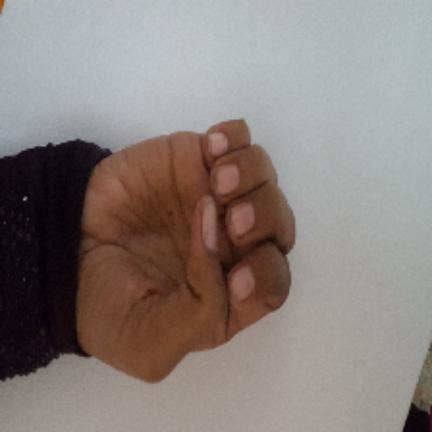Nail: (228, 266, 255, 301), (229, 202, 255, 236), (202, 197, 218, 252), (215, 163, 240, 196), (208, 132, 228, 157)
